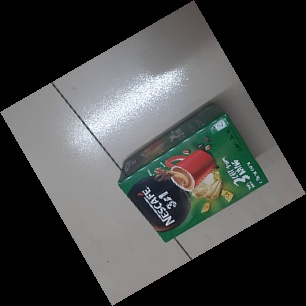Nes Rang: (119, 100, 269, 245)
